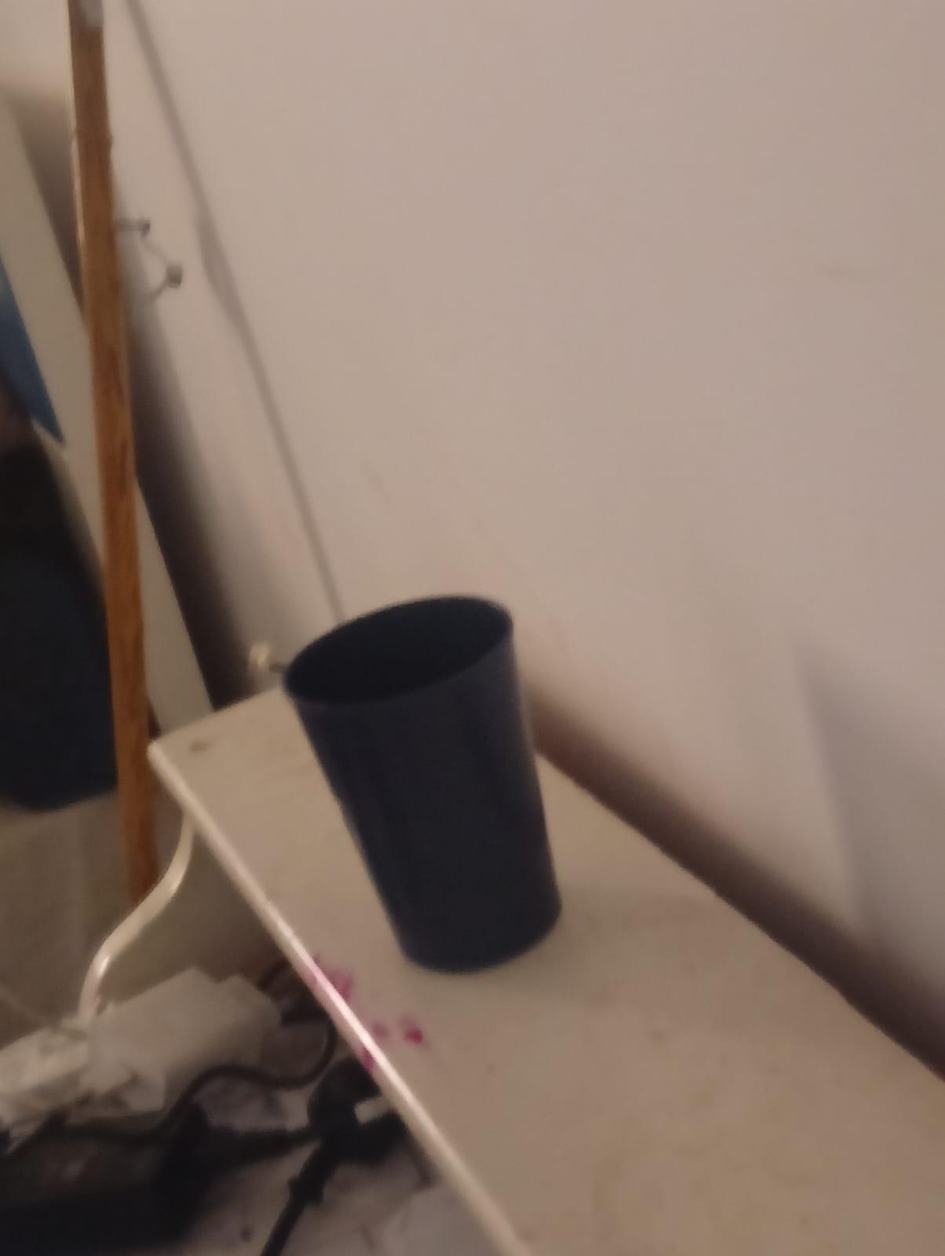cup: (283, 596, 560, 972), (283, 596, 513, 720)
